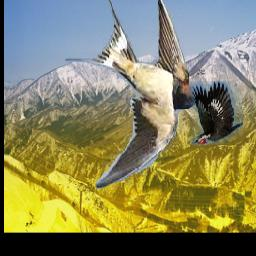Swallow: (65, 0, 201, 189)
Woodpecker: (189, 81, 244, 145)
